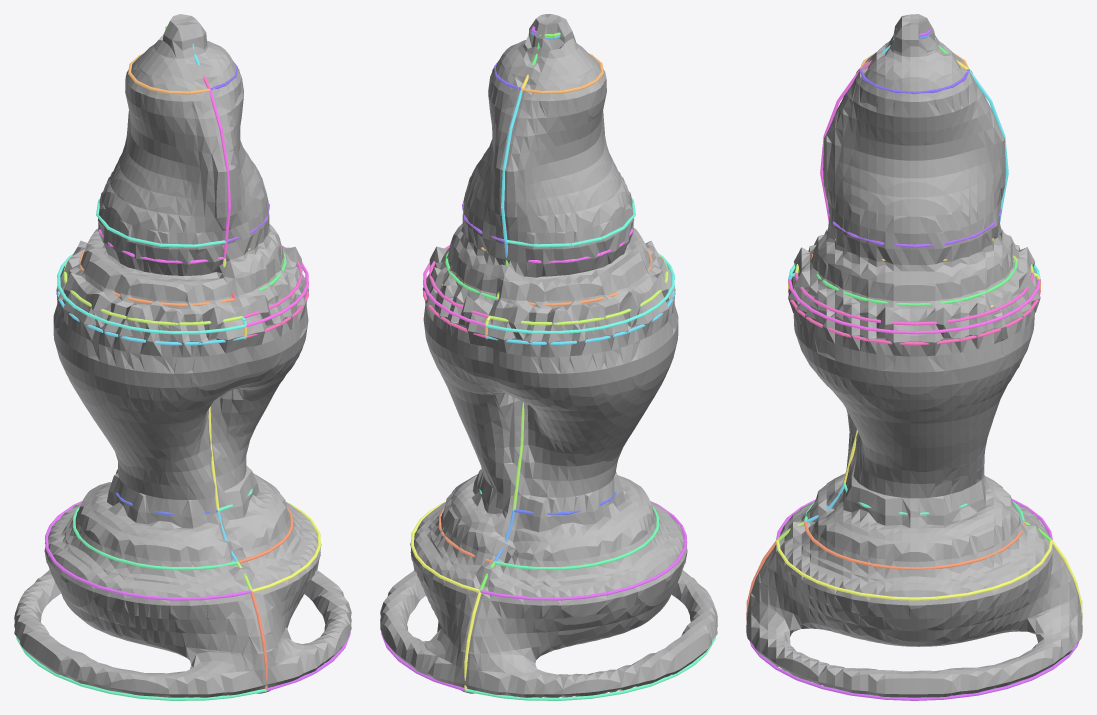
File: onshape_bishop.gltf
3 views of the same model, side by side, from view 1: azimuth 30°, elevation 25°; view 2: azimuth 150°, elevation 25°; view 3: azimuth 270°, elevation 25° (orthographic).
Size of the model in its own units: 0.414 by 0.8324 by 0.4124.
